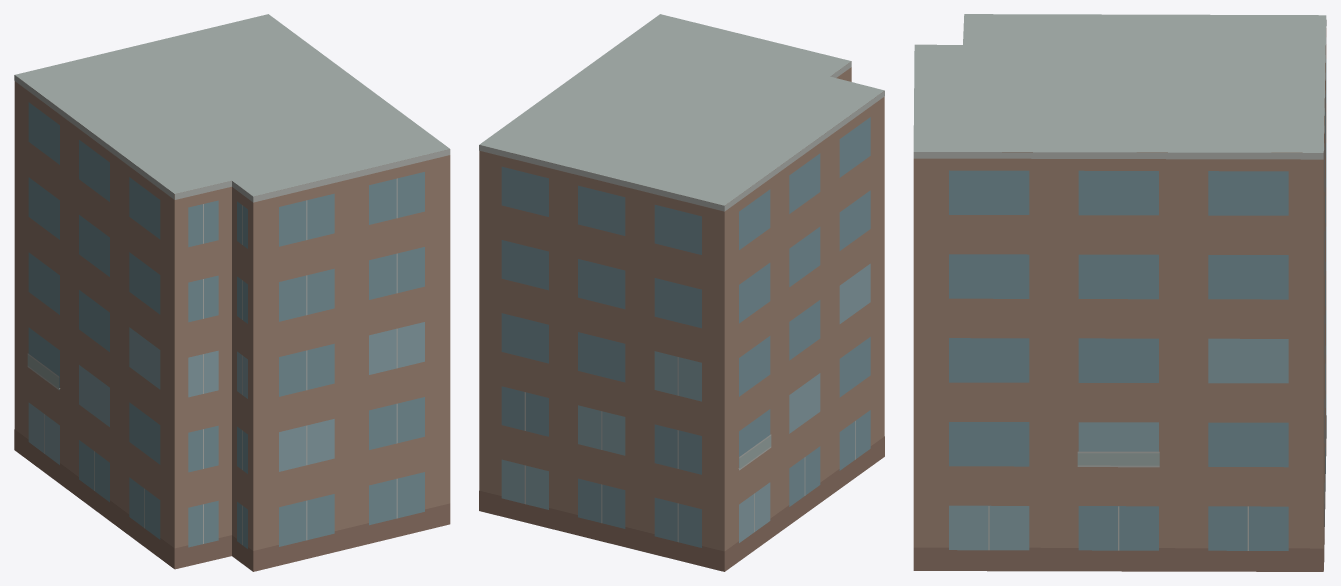
The model's file is survey-upis-32872026.glb.
3 views of the same model, side by side, from view 1: azimuth 30°, elevation 25°; view 2: azimuth 150°, elevation 25°; view 3: azimuth 270°, elevation 25° (orthographic). The views are drawn at different scales.
Visible parts, largest first — view 1: survey-upis-32872026.tmp; view 2: survey-upis-32872026.tmp; view 3: survey-upis-32872026.tmp.
Boxes of the visible parts, x1=… form: survey-upis-32872026.tmp: x1=14, y1=14, x2=450, y2=571; survey-upis-32872026.tmp: x1=479, y1=14, x2=884, y2=571; survey-upis-32872026.tmp: x1=913, y1=14, x2=1326, y2=571.
Bounding box in the file's own units: 10.85 × 15.25 × 13.63.
